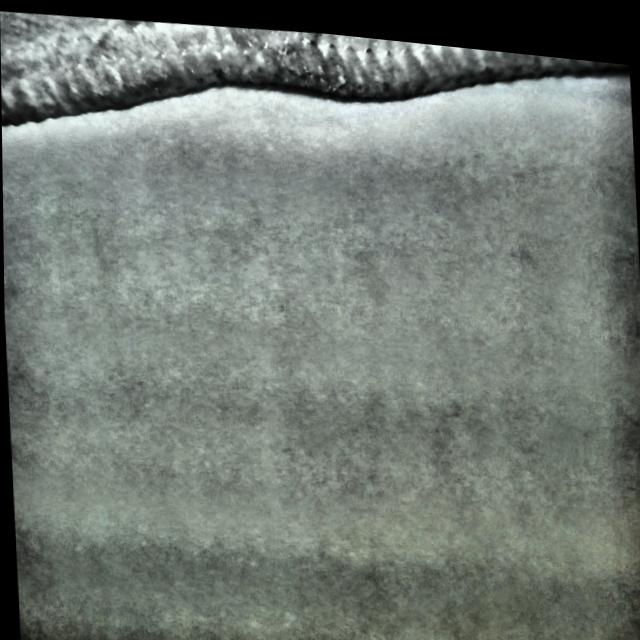seam: (139, 9, 350, 110)
